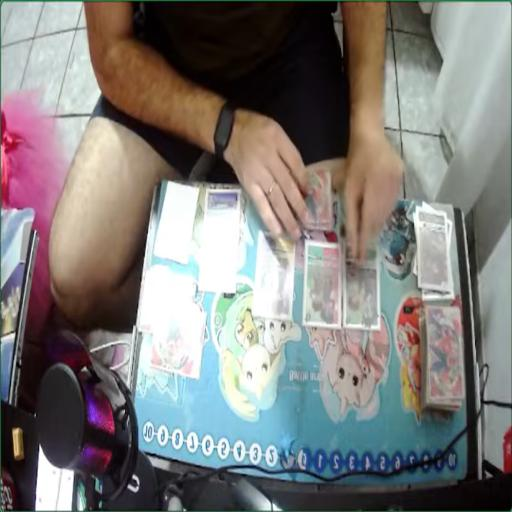card: (152, 182, 202, 264), (252, 229, 296, 318), (301, 244, 344, 328), (199, 207, 240, 294), (344, 242, 382, 332), (202, 191, 243, 218)
